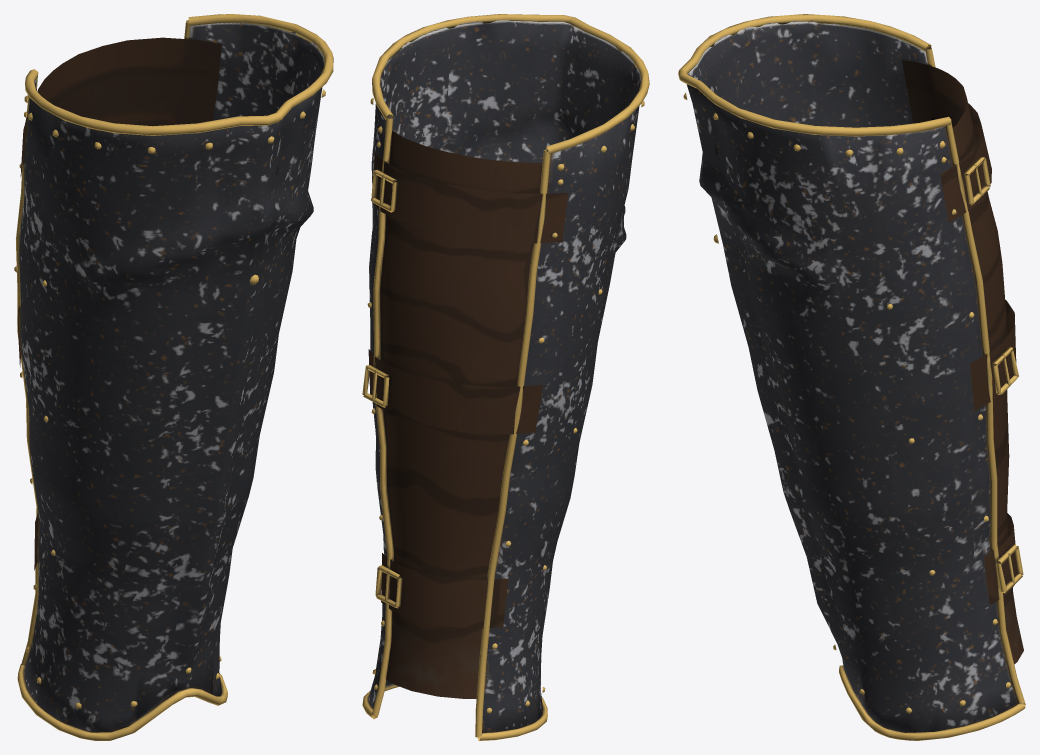
File: SM_EagleGreaves_L_LOD2.fbx
3 views of the same model, side by side, from view 1: azimuth 30°, elevation 25°; view 2: azimuth 150°, elevation 25°; view 3: azimuth 270°, elevation 25° (orthographic). The views are drawn at different scales.
Parts seen in each view (by area): view 1: SM_EagleGreaves_L_LOD2; view 2: SM_EagleGreaves_L_LOD2; view 3: SM_EagleGreaves_L_LOD2.
Part boxes in pixels (x1,y1,x2,y2): SM_EagleGreaves_L_LOD2: (14, 14, 333, 740); SM_EagleGreaves_L_LOD2: (362, 14, 649, 740); SM_EagleGreaves_L_LOD2: (678, 14, 1025, 740).
Bounding box in the file's own units: 0.1613 × 0.3924 × 0.1923.
